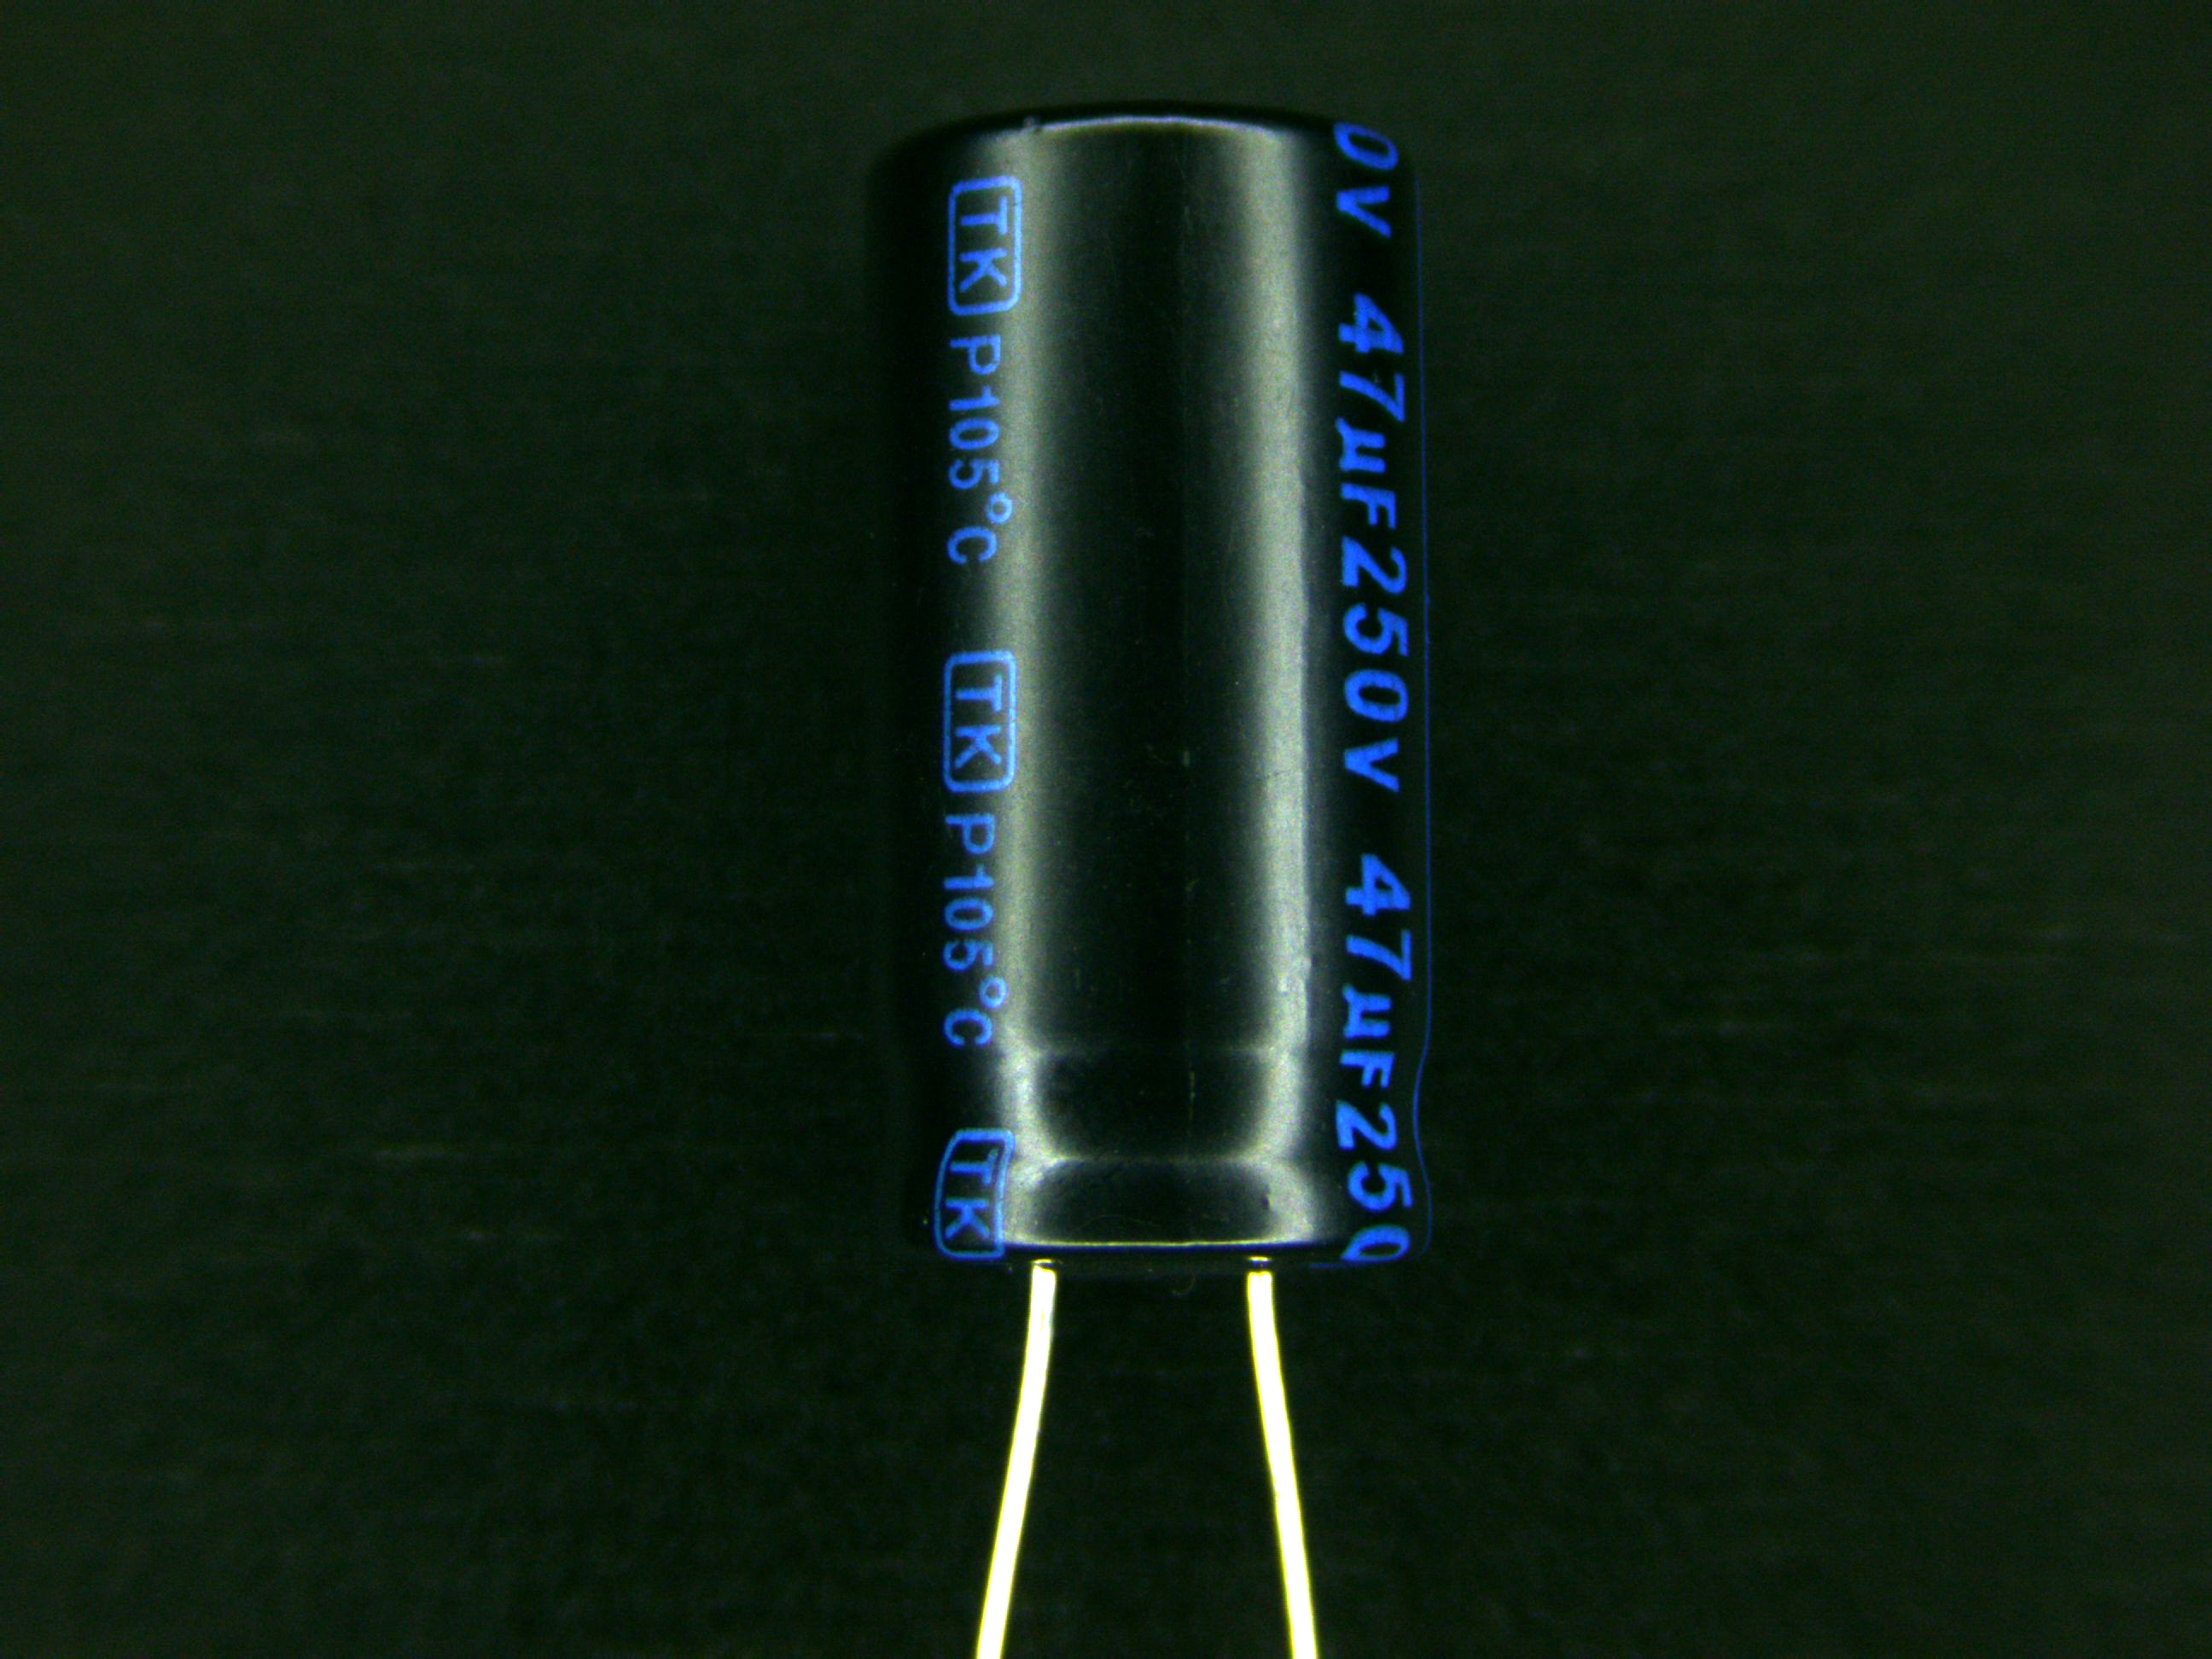c2: (862, 112, 1437, 1392)
